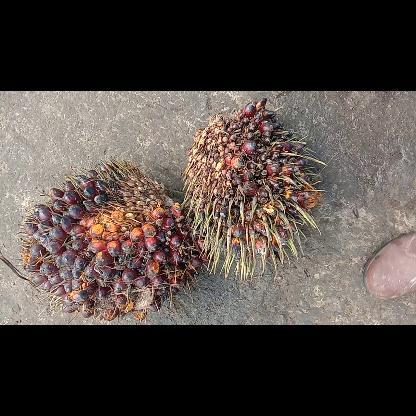Kurang masak: (20, 158, 210, 324)
TBS abnormal: (182, 99, 324, 283)
